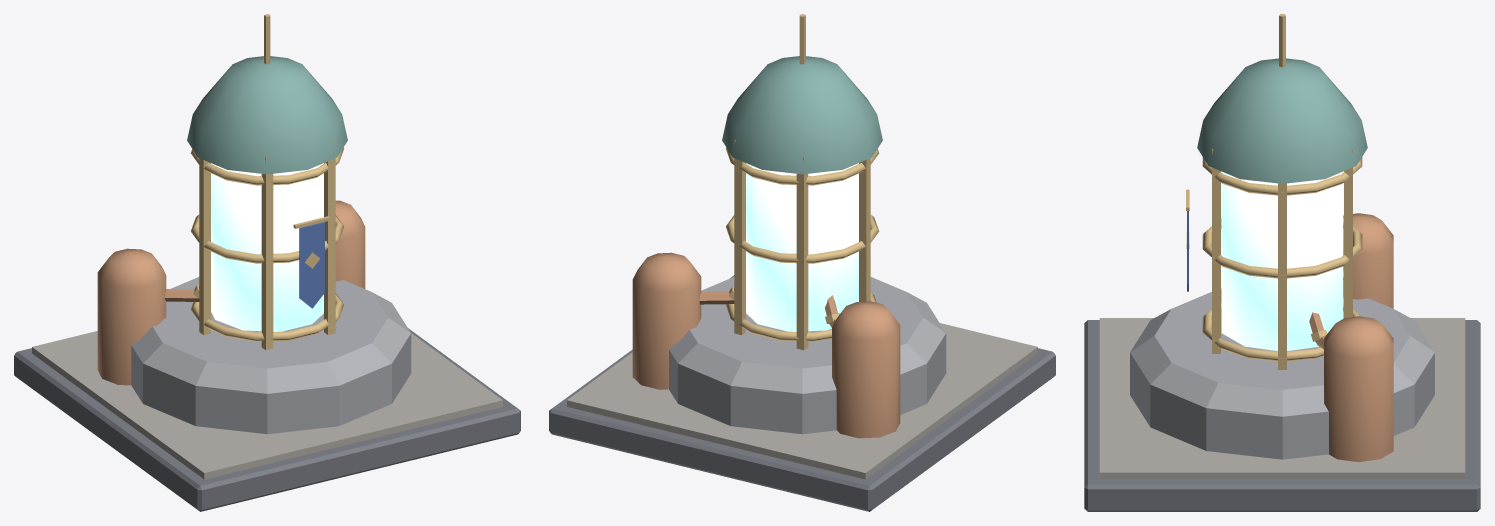
Rendered from refinery.glb.
3 renders of one model, left to right at view 1: azimuth 30°, elevation 25°; view 2: azimuth 150°, elevation 25°; view 3: azimuth 270°, elevation 25°, orthographic. The views are drawn at different scales.
Parts seen in each view (by area): view 1: refinery; view 2: refinery; view 3: refinery.
Part boxes in pixels (<box>): refinery: <box>14,14,520,511</box>; refinery: <box>549,14,1055,511</box>; refinery: <box>1084,14,1480,511</box>.
Size of the model in its own units: 13 by 15 by 13.
